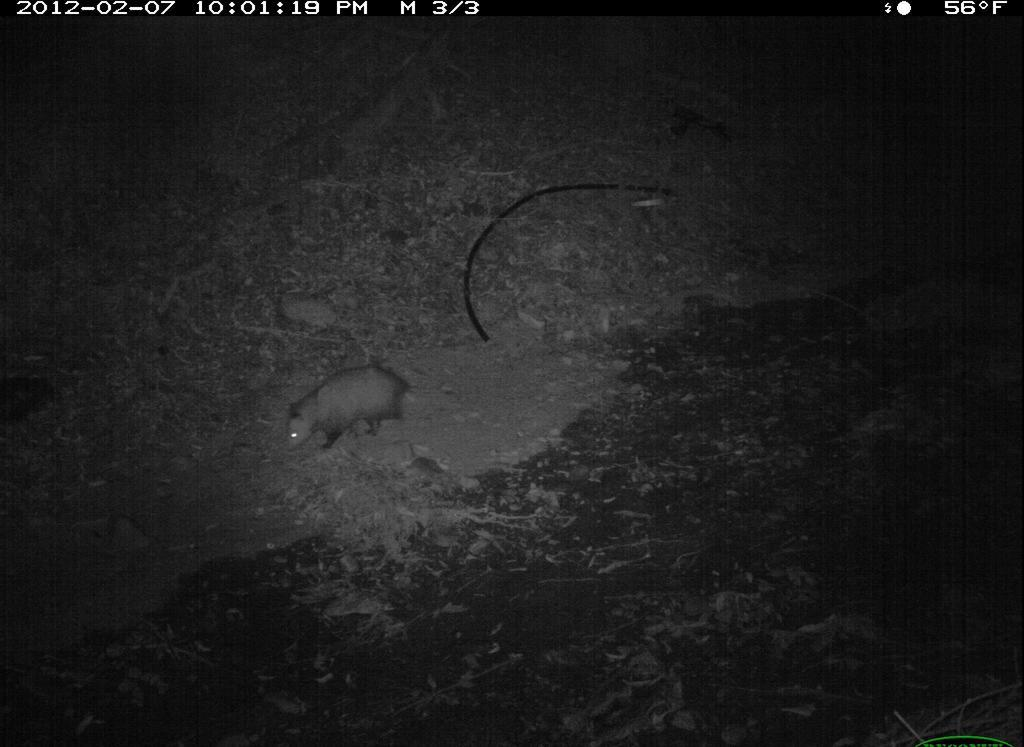opossum: (276, 361, 456, 460)
